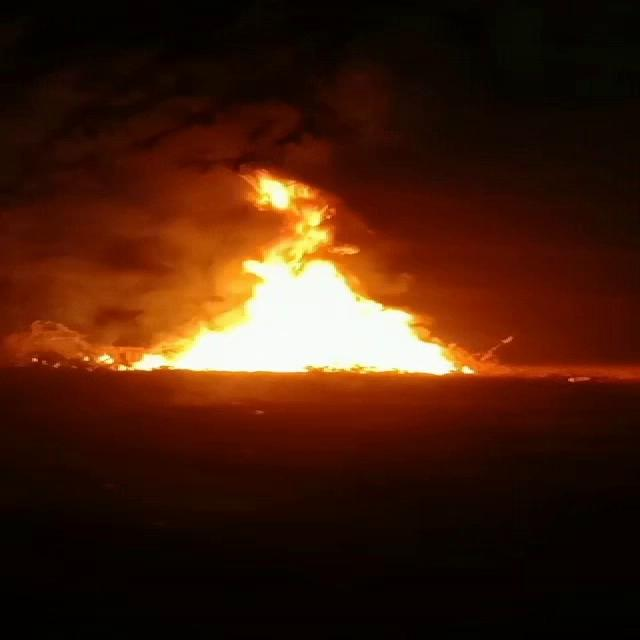Fire: (136, 174, 458, 375)
